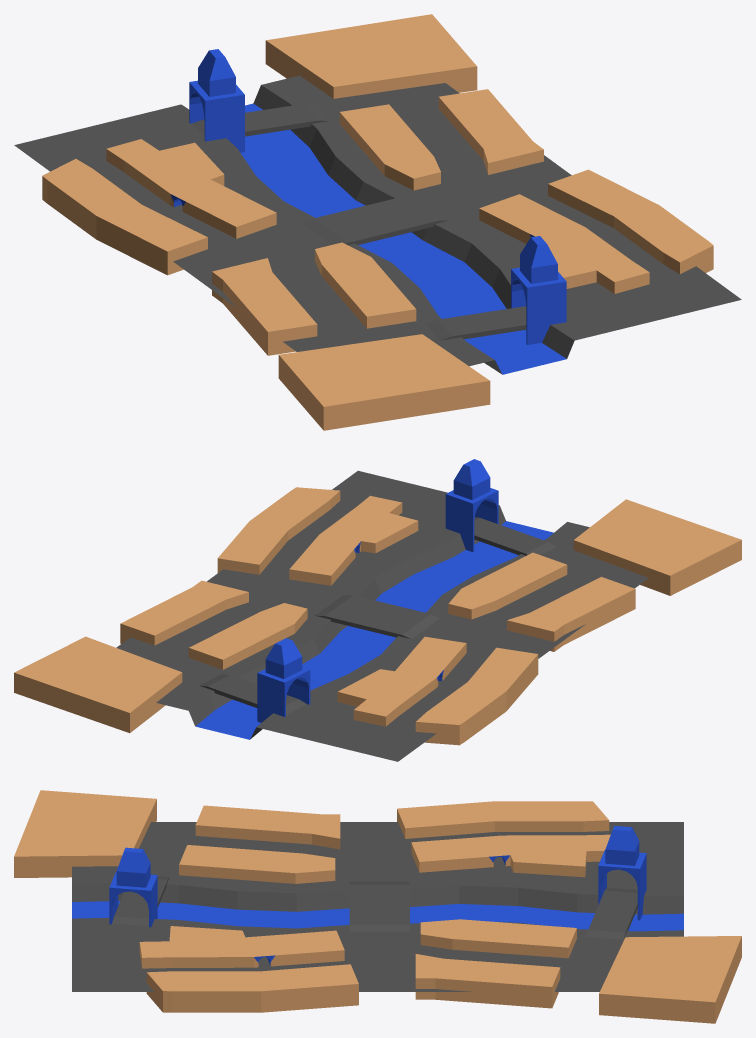
Rendered from burgsgradREBORN_export.fbx.
3 views of the same model, one above another, from view 1: azimuth 30°, elevation 25°; view 2: azimuth 150°, elevation 25°; view 3: azimuth 270°, elevation 25° (orthographic). The views are drawn at different scales.
Parts seen in each view (by area): view 1: Map; view 2: Map; view 3: Map.
Part boxes in pixels (box(x1,y1,x2,y2)): Map: box(14, 14, 741, 430); Map: box(14, 459, 741, 761); Map: box(14, 790, 741, 1023).
Bounding box in the file's own units: 21225 × 3958 × 30774.
